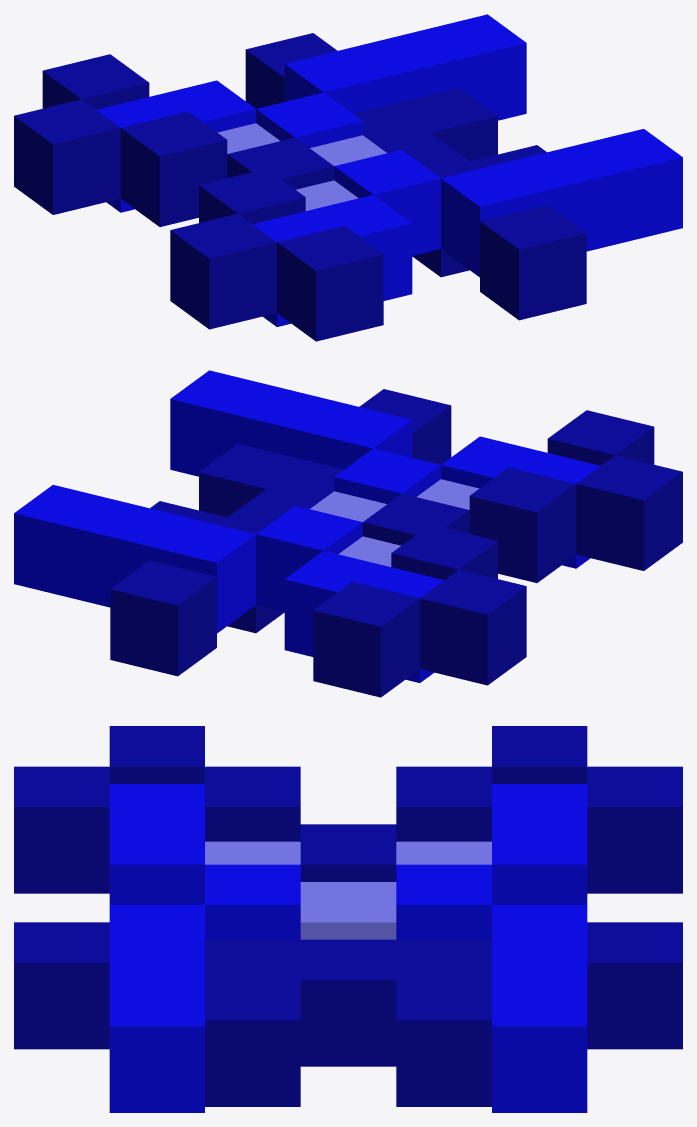
File: BlueBlock_Ship.fbx
The picture shows the model from 3 angles, top to bottom: view 1: azimuth 30°, elevation 25°; view 2: azimuth 150°, elevation 25°; view 3: azimuth 270°, elevation 25°; orthographic projection. The views are drawn at different scales.
Visible parts, largest first — view 1: Cube.181, Cube.194, Cube.170; view 2: Cube.181, Cube.194, Cube.170; view 3: Cube.181, Cube.194, Cube.170.
Boxes of the visible parts, x1,y1,x2,y2 form: Cube.181: (14,33,586,341); Cube.194: (96,14,682,326); Cube.170: (198,123,386,217); Cube.181: (110,389,682,697); Cube.194: (14,370,600,682); Cube.170: (310,479,498,573); Cube.181: (14,726,682,1106); Cube.194: (109,784,587,1112); Cube.170: (205,841,491,939).
Bounding box in the file's own units: 7 × 1.6 × 7.
